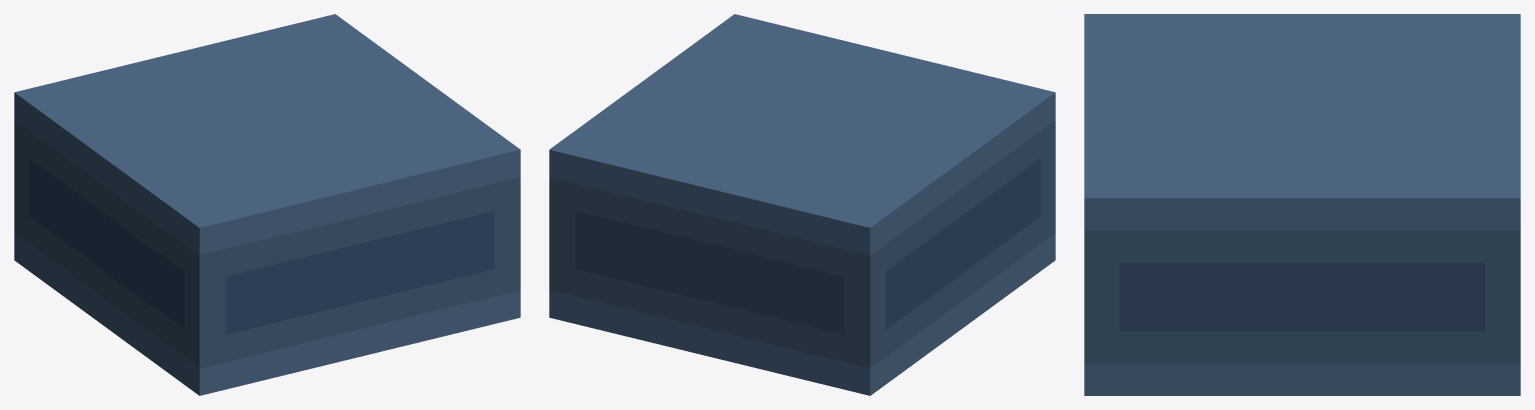
Rendered from MidWallTile.fbx.
3 views of the same model, side by side, from view 1: azimuth 30°, elevation 25°; view 2: azimuth 150°, elevation 25°; view 3: azimuth 270°, elevation 25° (orthographic). The views are drawn at different scales.
Visible parts, largest first — view 1: MidWallTile; view 2: MidWallTile; view 3: MidWallTile.
Part boxes in pixels (x1,y1,x2,y2): MidWallTile: (14, 14, 520, 395); MidWallTile: (549, 14, 1055, 395); MidWallTile: (1084, 14, 1520, 395).
Bounding box in the file's own units: 100 × 100 × 50.
